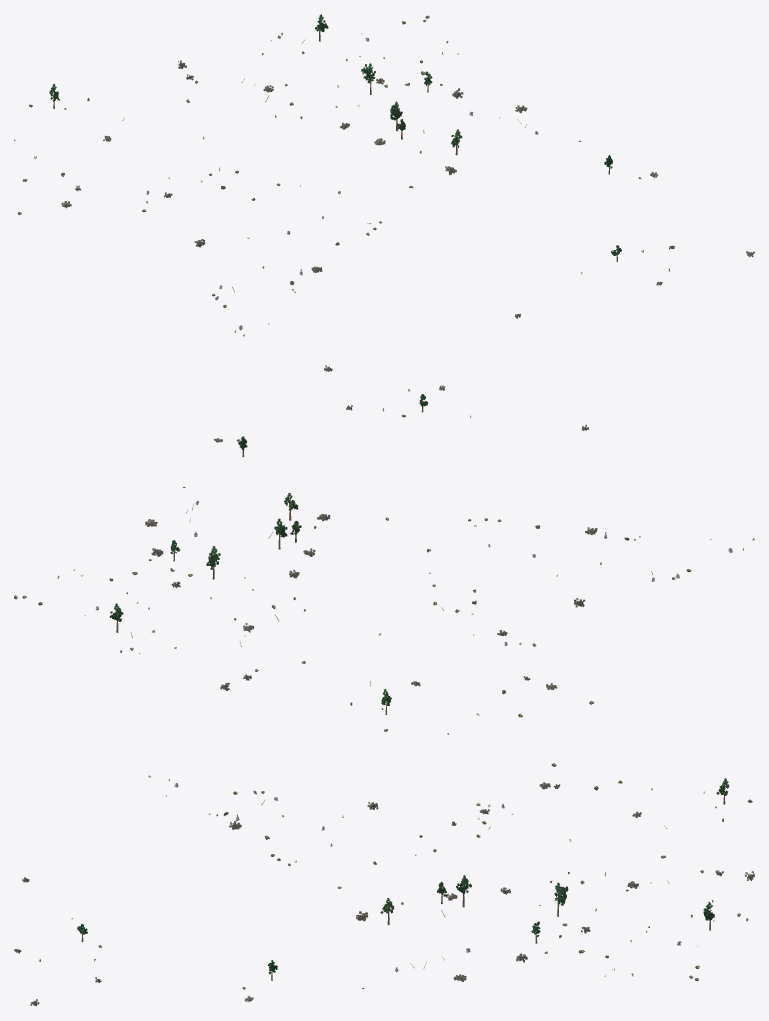
File: coast_land_scatter_c09_17.glb
3 views of the same model, one above another, from view 1: azimuth 30°, elevation 25°; view 2: azimuth 150°, elevation 25°; view 3: azimuth 270°, elevation 25° (orthographic). The views are drawn at different scales.
Visible parts, largest first — view 1: coast_land_scatter_c09_17; view 2: coast_land_scatter_c09_17; view 3: coast_land_scatter_c09_17.
Part boxes in pixels (left/top/right/bottom): coast_land_scatter_c09_17: left=14, top=14, right=754, bottom=336; coast_land_scatter_c09_17: left=14, top=365, right=754, bottom=734; coast_land_scatter_c09_17: left=14, top=763, right=754, bottom=1006.
Bounding box in the file's own units: 211 × 25.96 × 253.
